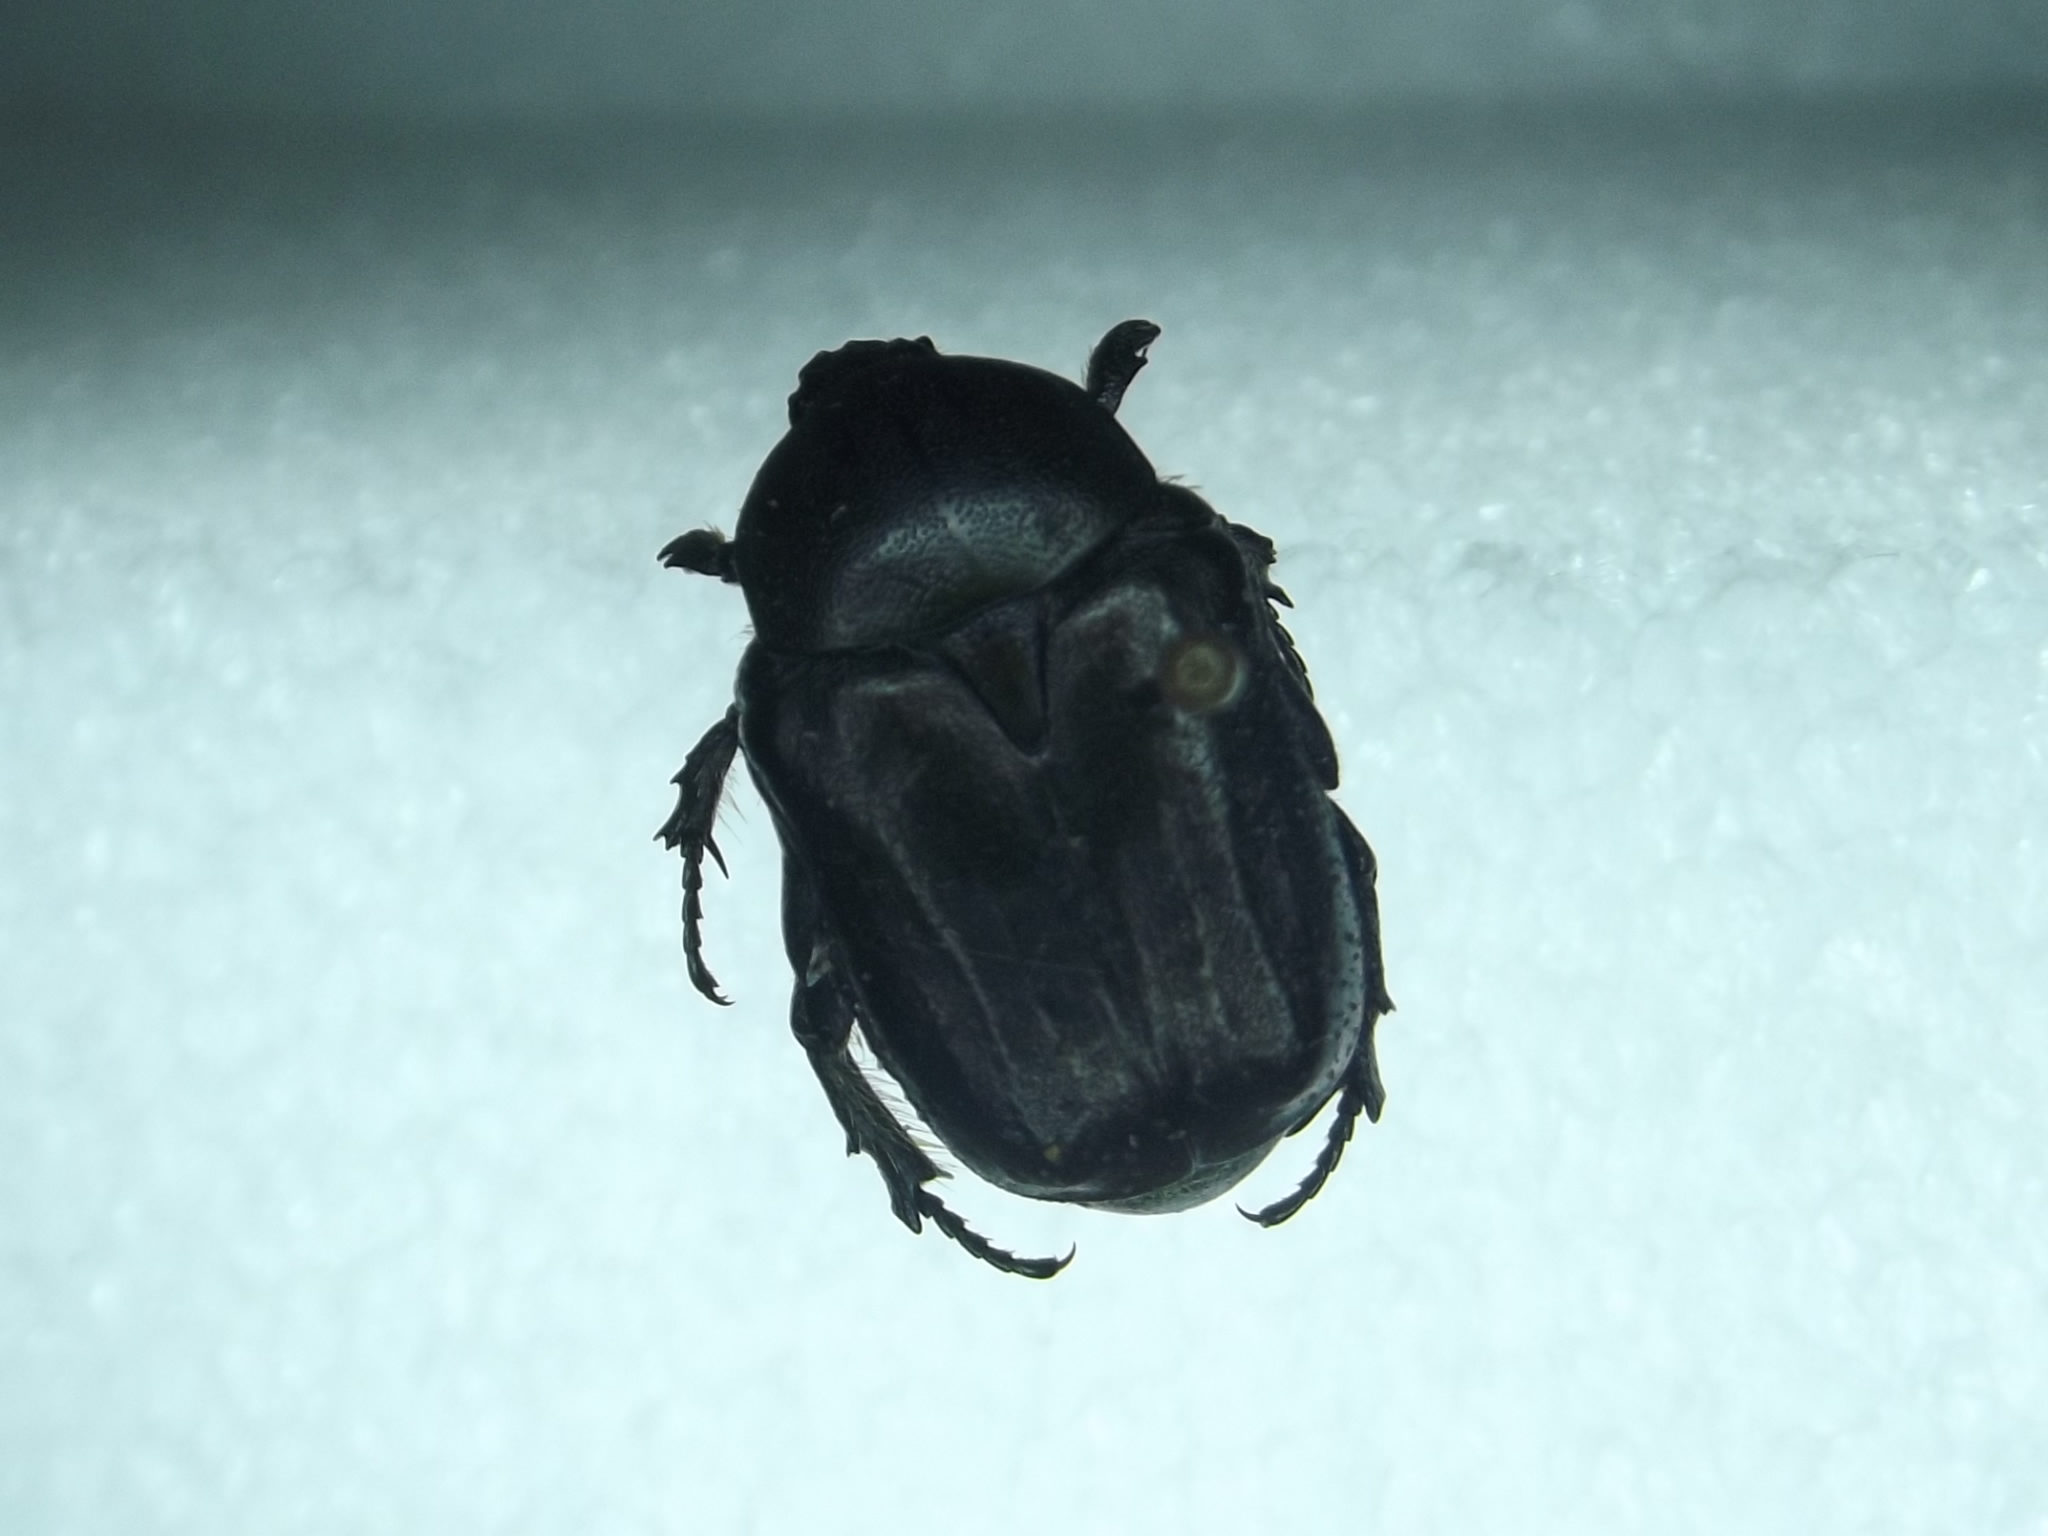Protaetia_vidua: (640, 290, 1408, 1289)
